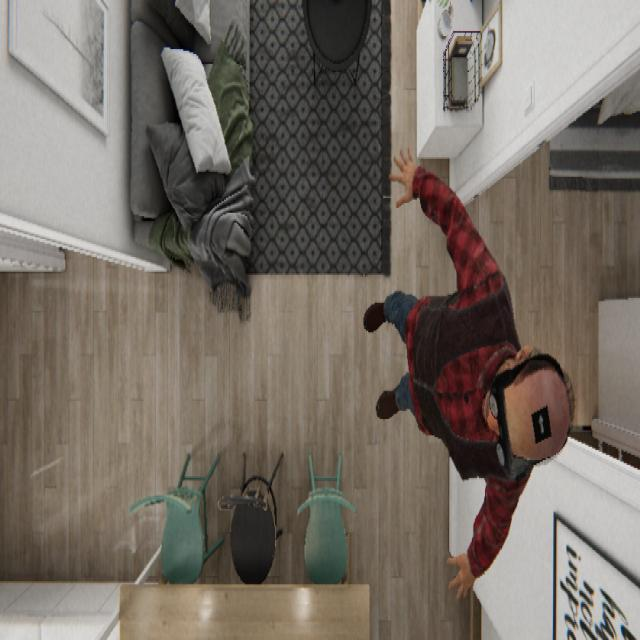Human: (362, 144, 575, 601)
UnityLogo: (530, 401, 552, 444)
